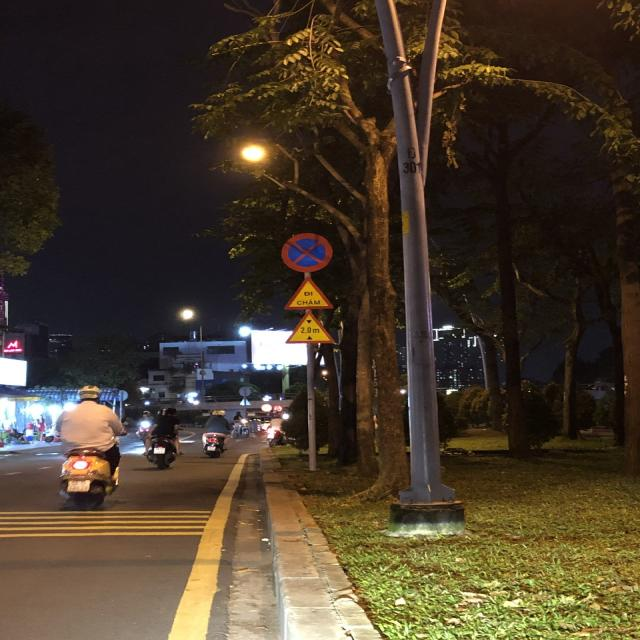Bien bao cam dung xe va do xe: (278, 229, 336, 274)
Bien bao chieu cao tinh khong thuc te: (279, 310, 341, 347)
Bien bao di cham: (281, 274, 336, 311)
